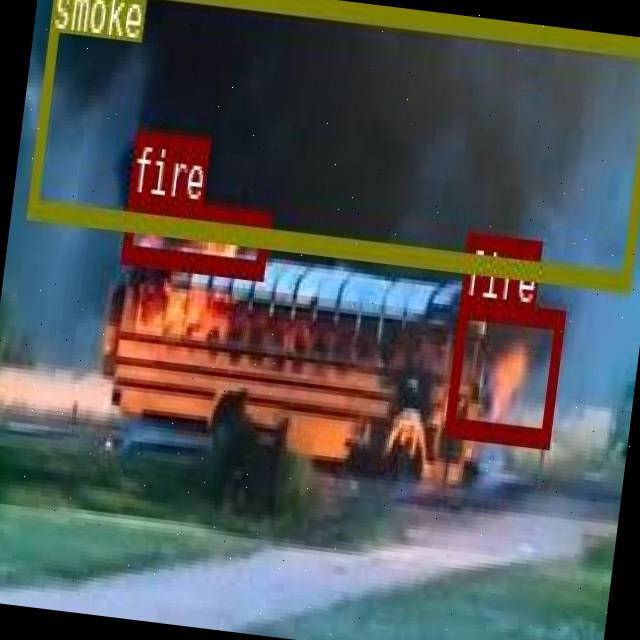fire: (442, 296, 563, 446), (120, 192, 268, 276)
smoke: (25, 0, 640, 289)
